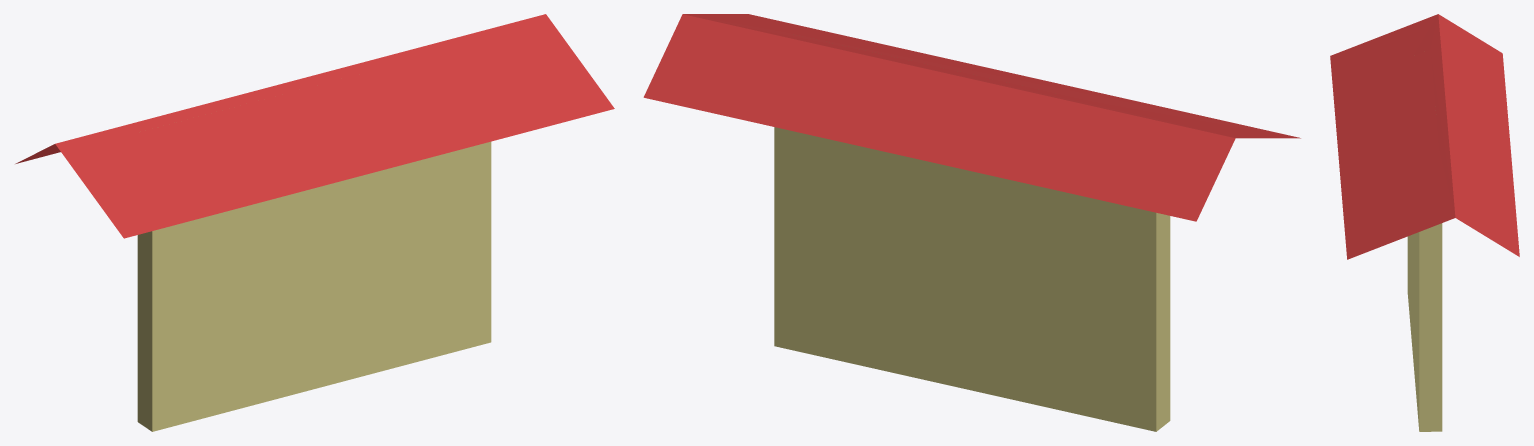
The picture shows the model from 3 angles, left to right: view 1: azimuth 30°, elevation 25°; view 2: azimuth 150°, elevation 25°; view 3: azimuth 270°, elevation 25°; orthographic projection. The views are drawn at different scales.
Size of the model in its own units: 6.54 by 2.54 by 3.62.
